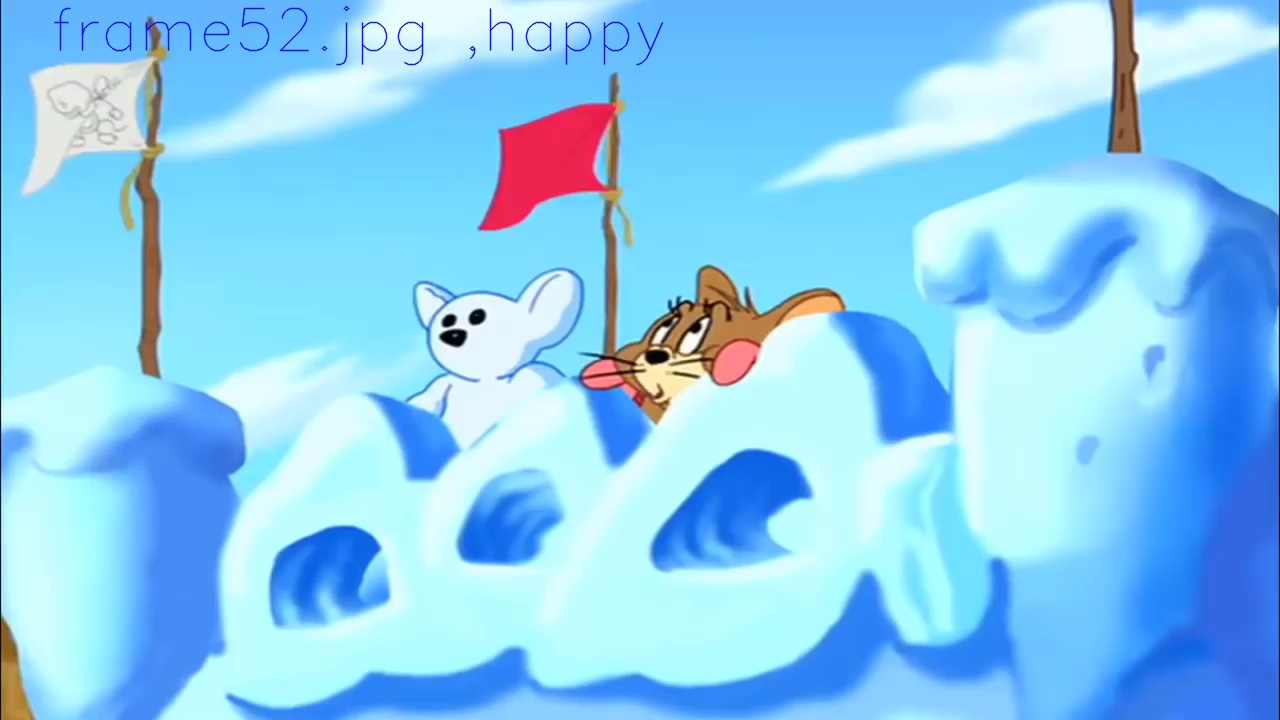surprised: (635, 298, 731, 413)
